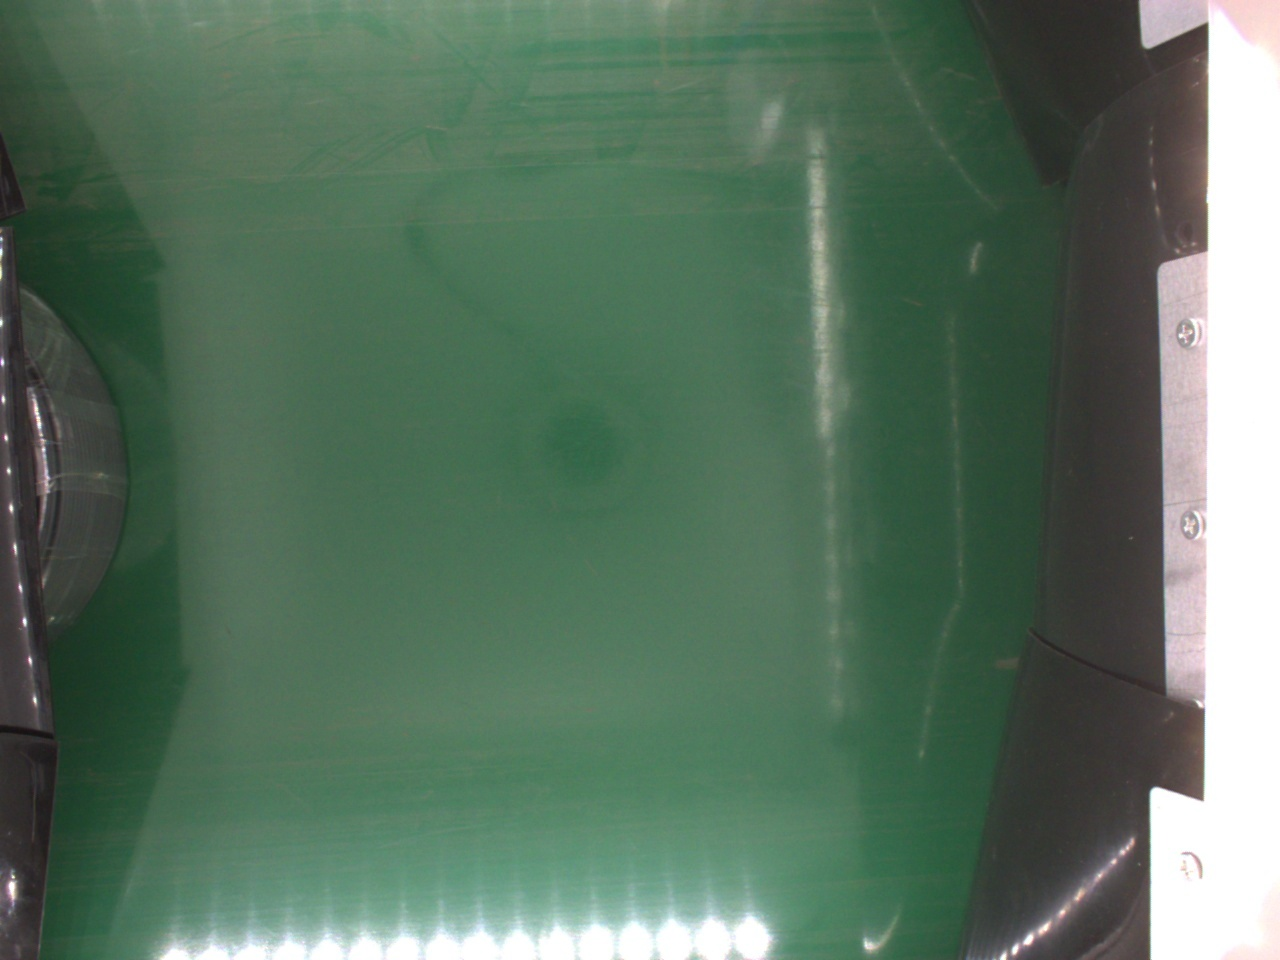black: (9, 288, 132, 635)
